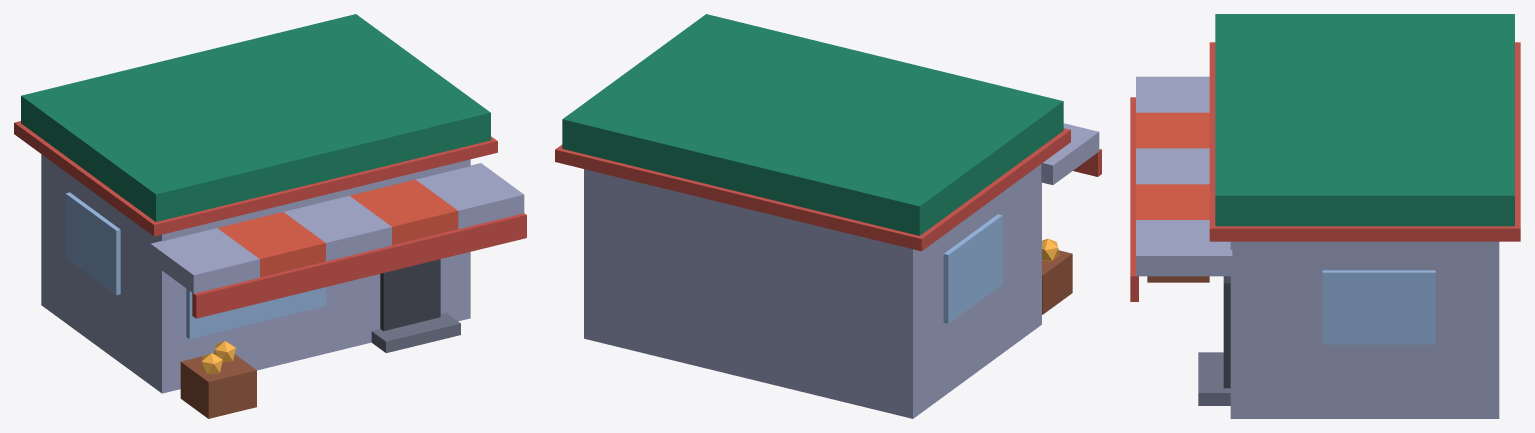
Rendered from corner-shop.glb.
3 views of the same model, side by side, from view 1: azimuth 30°, elevation 25°; view 2: azimuth 150°, elevation 25°; view 3: azimuth 270°, elevation 25° (orthographic). The views are drawn at different scales.
Parts seen in each view (by area): view 1: shop_roof, shop_body, shop_awning_valance, shop_roof_trim, shop_awning_end, shop_awning, shop_awning_stripe_a, shop_awning_mid, shop_awning_stripe_b, shop_window_left, shop_crate, shop_door (+2 smaller); view 2: shop_body, shop_roof, shop_roof_trim, shop_window_left, shop_awning_end, shop_crate; view 3: shop_roof, shop_body, shop_window_right, shop_roof_trim, shop_awning, shop_awning_end, shop_awning_mid, shop_awning_stripe_b, shop_awning_stripe_a, shop_step, shop_awning_valance, shop_door (+1 smaller).
Part boxes in pixels (x1,y1,x2,y2): shop_roof: (21, 14, 490, 221); shop_body: (41, 154, 470, 393); shop_awning_valance: (192, 213, 526, 318); shop_roof_trim: (14, 121, 497, 236); shop_awning_end: (150, 228, 259, 293); shop_awning: (416, 163, 524, 228); shop_awning_stripe_a: (350, 179, 458, 245); shop_awning_mid: (284, 195, 391, 261); shop_awning_stripe_b: (217, 212, 325, 277); shop_window_left: (65, 192, 120, 295); shop_crate: (180, 353, 256, 418); shop_door: (380, 259, 440, 330); shop_body: (584, 164, 1041, 418); shop_roof: (562, 14, 1063, 235); shop_roof_trim: (555, 128, 1070, 251); shop_window_left: (943, 214, 1002, 323); shop_awning_end: (1041, 123, 1099, 184); shop_crate: (1042, 250, 1072, 314); shop_roof: (1215, 14, 1514, 226); shop_body: (1230, 241, 1499, 418); shop_window_right: (1322, 270, 1435, 344); shop_roof_trim: (1209, 42, 1520, 241); shop_awning: (1136, 220, 1232, 276); shop_awning_end: (1136, 76, 1209, 112); shop_awning_mid: (1136, 148, 1209, 184); shop_awning_stripe_b: (1136, 112, 1209, 148); shop_awning_stripe_a: (1136, 184, 1209, 219); shop_step: (1198, 352, 1230, 405); shop_awning_valance: (1130, 97, 1138, 301); shop_door: (1223, 276, 1230, 388).
Size of the model in its own units: 1.56 by 0.9 by 1.38.
11 materials, 11 textured.
